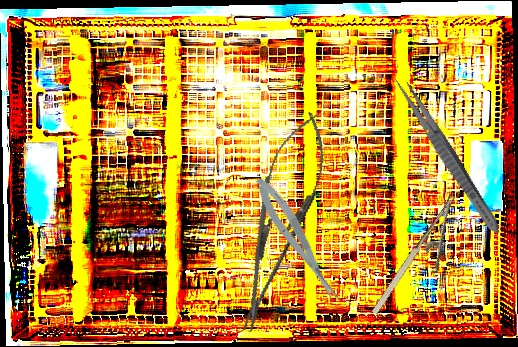Dressing Forceps: (389, 72, 507, 239)
Micro Scissor: (249, 172, 346, 310)
Needle Holder: (220, 105, 339, 339), (367, 194, 480, 329)
